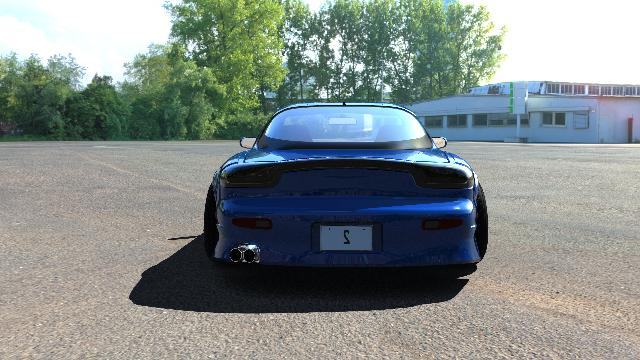License Plate: (321, 226, 373, 252)
